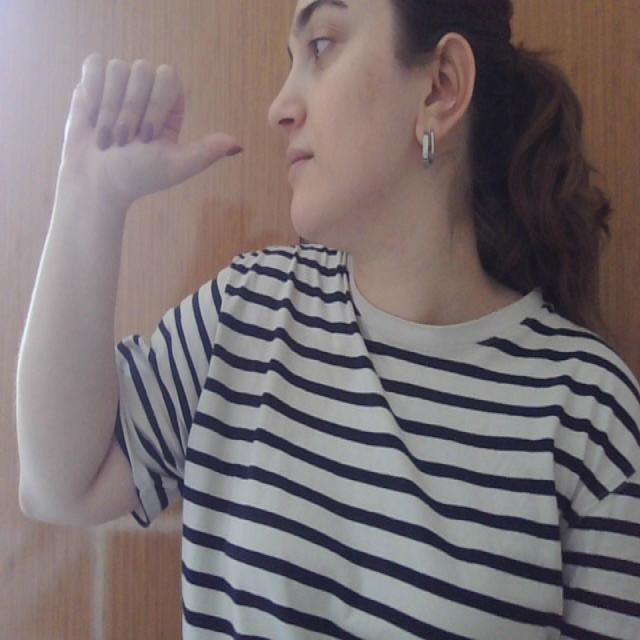icmek: (11, 62, 318, 226)
